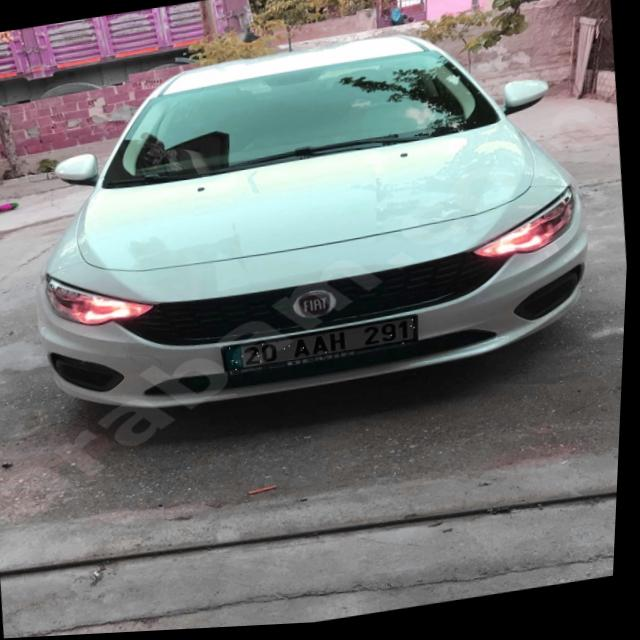license_plate: (225, 320, 422, 374)
